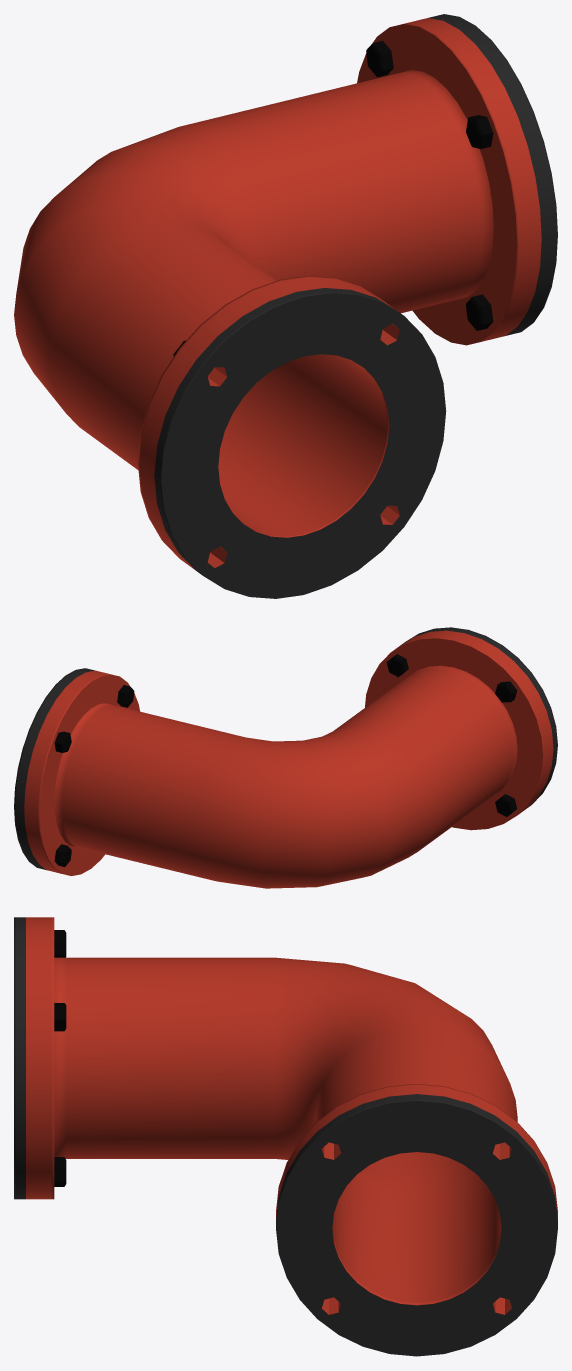
The model's file is CornerPipe.fbx.
The picture shows the model from 3 angles, top to bottom: view 1: azimuth 30°, elevation 25°; view 2: azimuth 150°, elevation 25°; view 3: azimuth 270°, elevation 25°; orthographic projection. The views are drawn at different scales.
Parts seen in each view (by area): view 1: Corner_Pipe; view 2: Corner_Pipe; view 3: Corner_Pipe.
Boxes of the visible parts, left/top/right/bottom form: Corner_Pipe: left=14, top=14, right=557, bottom=598; Corner_Pipe: left=14, top=627, right=557, bottom=888; Corner_Pipe: left=14, top=917, right=557, bottom=1356.
Bounding box in the file's own units: 27 × 14 × 27.
